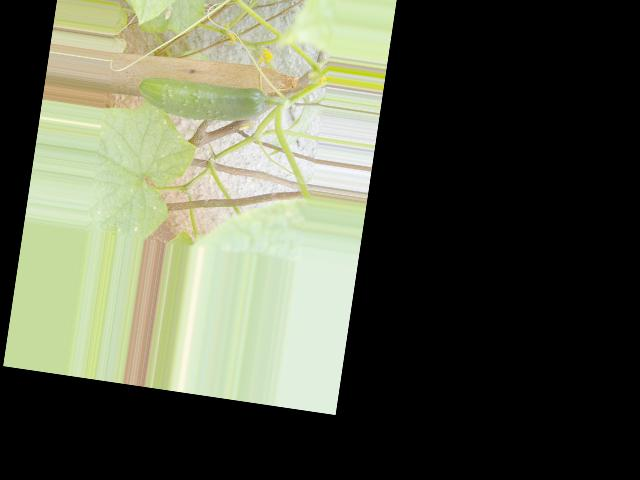cucumber: (135, 71, 269, 129)
